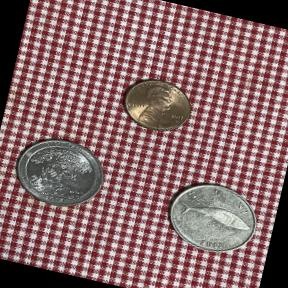Croatia-2Kune-B: (153, 170, 268, 265)
US-1cent-B: (112, 70, 200, 144)
US-25cent-B: (2, 126, 114, 220)
